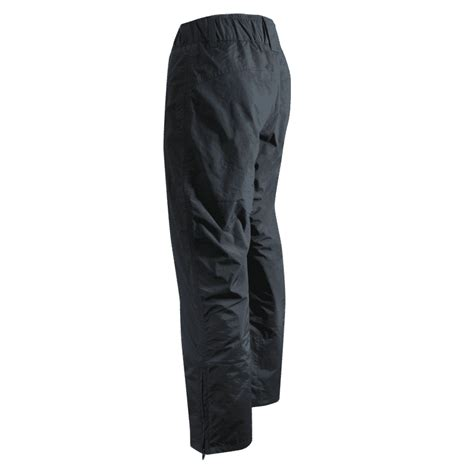nylon: (167, 13, 287, 452)
